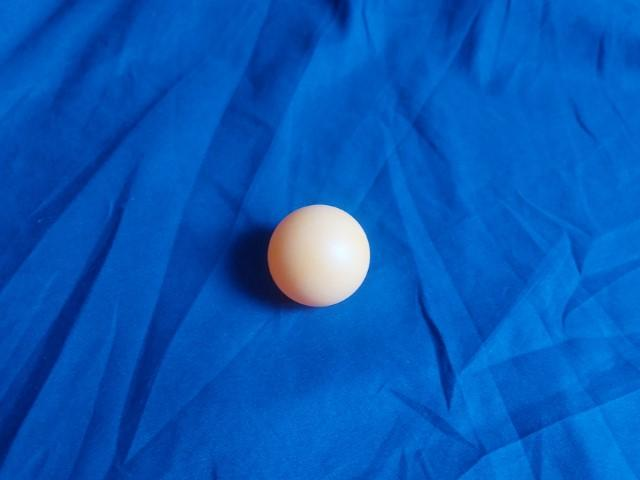oball: (255, 199, 378, 314)
